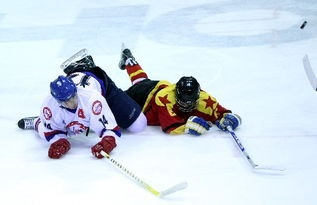falling: (16, 60, 125, 165)
